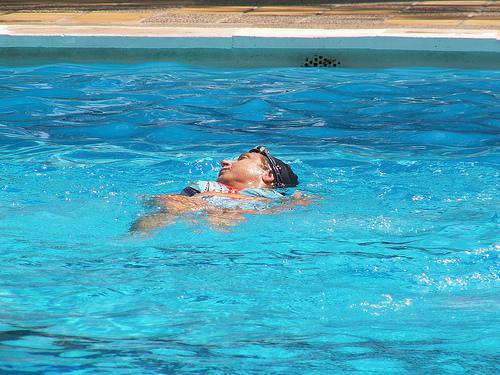human: (132, 146, 304, 235)
